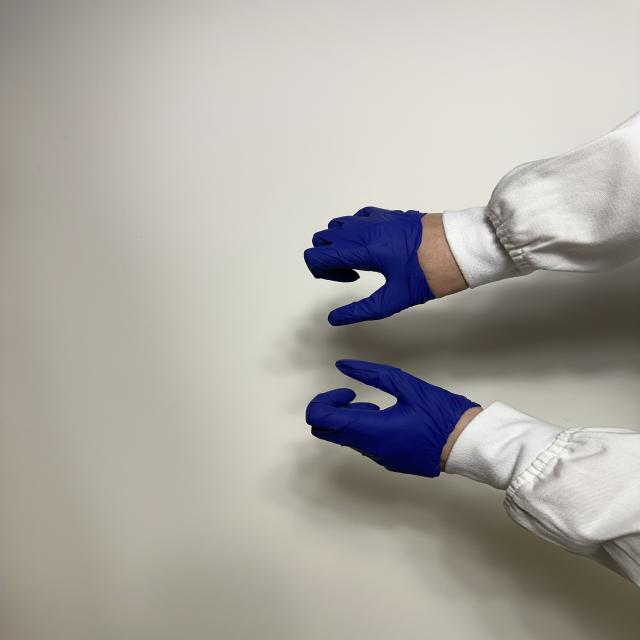glove_not_fitted: (304, 355, 482, 479), (303, 204, 471, 326)
